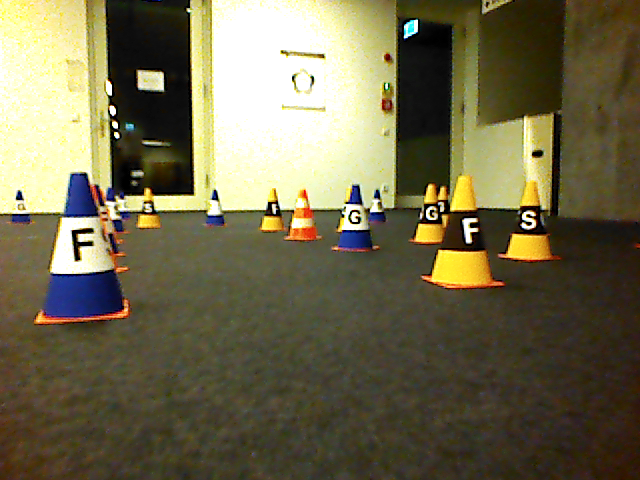bluecone: (34, 173, 131, 324), (332, 183, 379, 253)
yellowcone: (429, 175, 504, 289), (499, 180, 564, 263)
